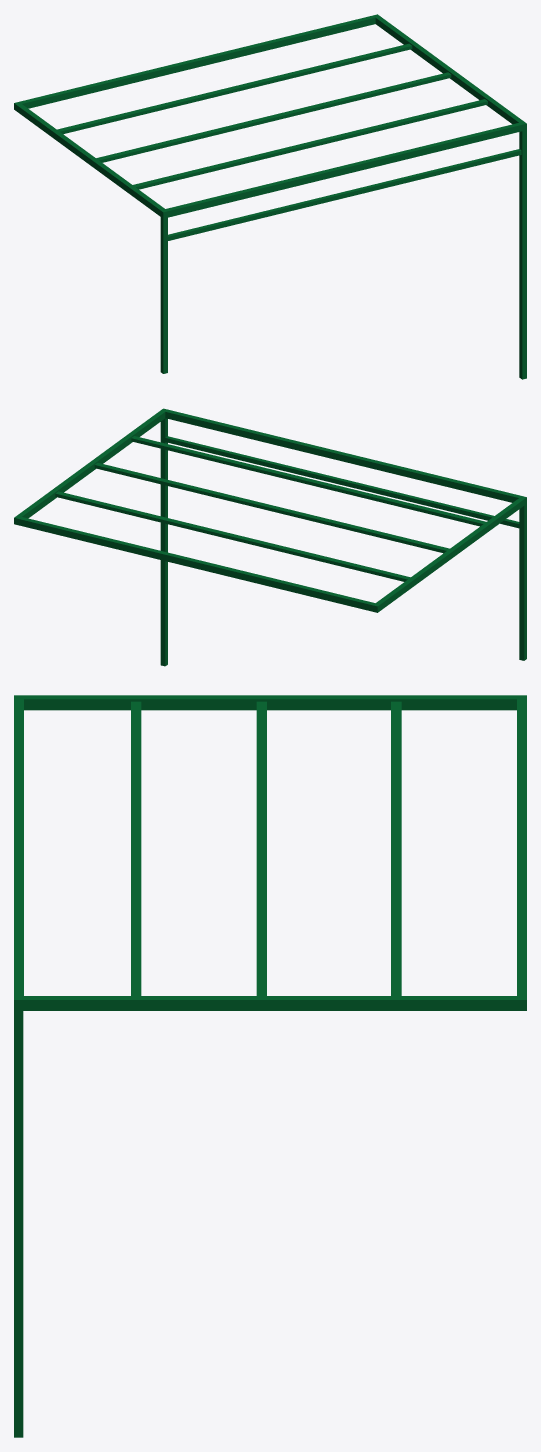
The model's file is roof1.fbx.
3 renders of one model, top to bottom at view 1: azimuth 30°, elevation 25°; view 2: azimuth 150°, elevation 25°; view 3: azimuth 270°, elevation 25°, orthographic. The views are drawn at different scales.
Parts seen in each view (by area): view 1: Component_16_1, Component_17_2, Component_17_3, Component_17_1; view 2: Component_16_1, Component_17_3, Component_17_1, Component_17_2; view 3: Component_16_1, Component_17_3, Component_17_1, Component_17_2.
Part boxes in pixels (left/top/right/bottom): Component_16_1: left=14, top=14, right=526, bottom=379; Component_17_2: left=96, top=72, right=451, bottom=162; Component_17_3: left=57, top=43, right=412, bottom=134; Component_17_1: left=133, top=99, right=487, bottom=189; Component_16_1: left=14, top=408, right=526, bottom=666; Component_17_3: left=55, top=491, right=410, bottom=581; Component_17_1: left=131, top=436, right=485, bottom=526; Component_17_2: left=94, top=463, right=449, bottom=553; Component_16_1: left=14, top=695, right=526, bottom=1437; Component_17_3: left=391, top=701, right=401, bottom=995; Component_17_1: left=131, top=701, right=141, bottom=995; Component_17_2: left=256, top=701, right=266, bottom=995.
Bounding box in the file's own units: 386 × 258 × 275.
